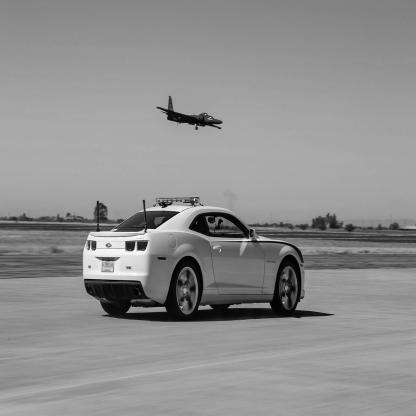U2: (157, 96, 224, 131)
